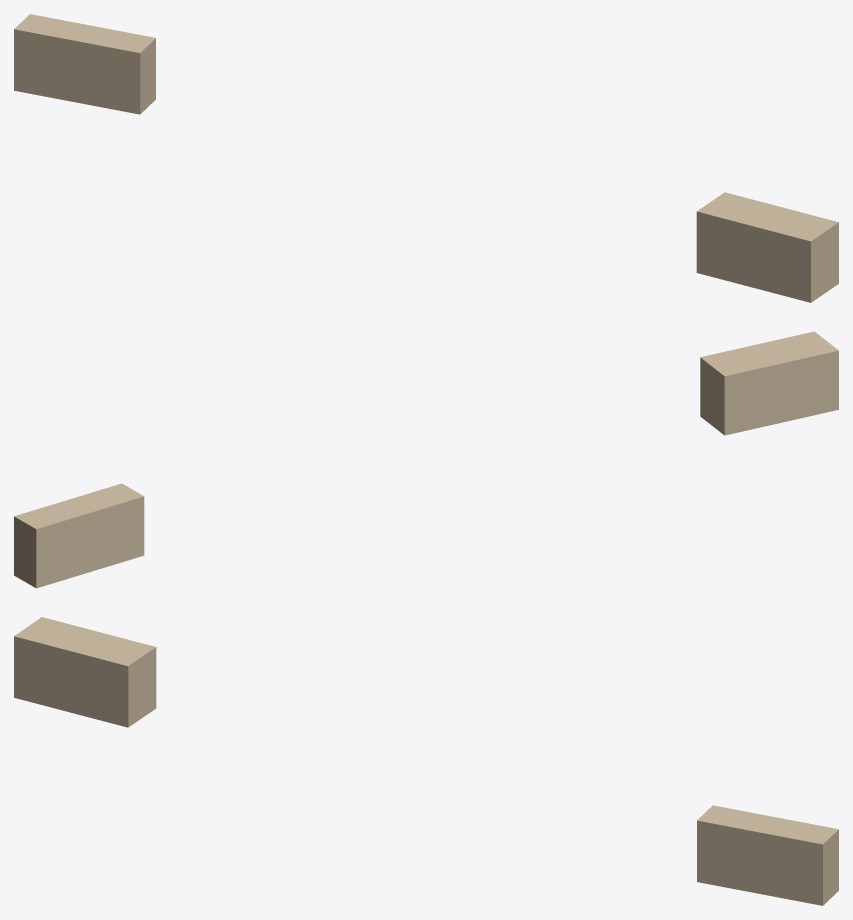
The model's file is overview-estimated--7_1.glb.
The picture shows the model from 3 angles, top to bottom: view 1: azimuth 90°, elevation 25°; view 2: azimuth 150°, elevation 25°; view 3: azimuth 270°, elevation 25°; orthographic projection. The views are drawn at different scales.
Bounding box in the file's own units: 95.24 × 12 × 146.
